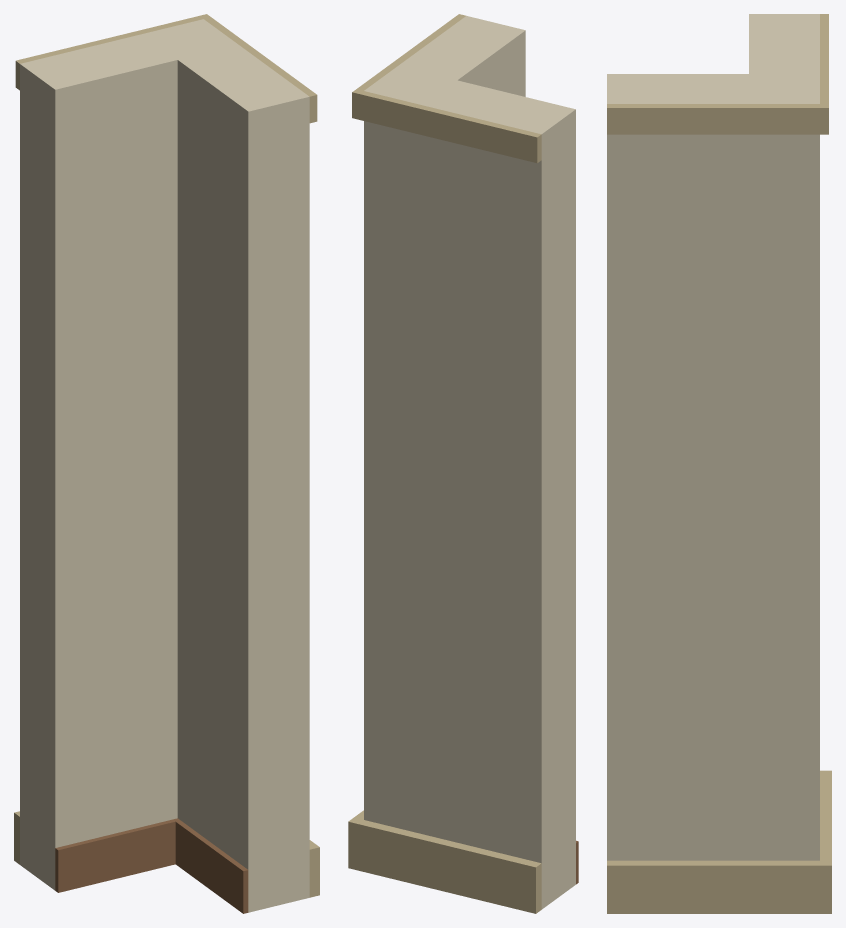
The model's file is rpg-mansion-exterior-return-corner-01.glb.
3 views of the same model, side by side, from view 1: azimuth 30°, elevation 25°; view 2: azimuth 150°, elevation 25°; view 3: azimuth 270°, elevation 25° (orthographic). The views are drawn at different scales.
Parts seen in each view (by area): view 1: rpg-mansion-exterior-return-corner-01; view 2: rpg-mansion-exterior-return-corner-01; view 3: rpg-mansion-exterior-return-corner-01.
Part boxes in pixels (x1,y1,x2,y2): rpg-mansion-exterior-return-corner-01: (14, 14, 319, 913); rpg-mansion-exterior-return-corner-01: (348, 14, 578, 913); rpg-mansion-exterior-return-corner-01: (607, 14, 831, 913).
Bounding box in the file's own units: 0.76 × 3 × 0.76.
